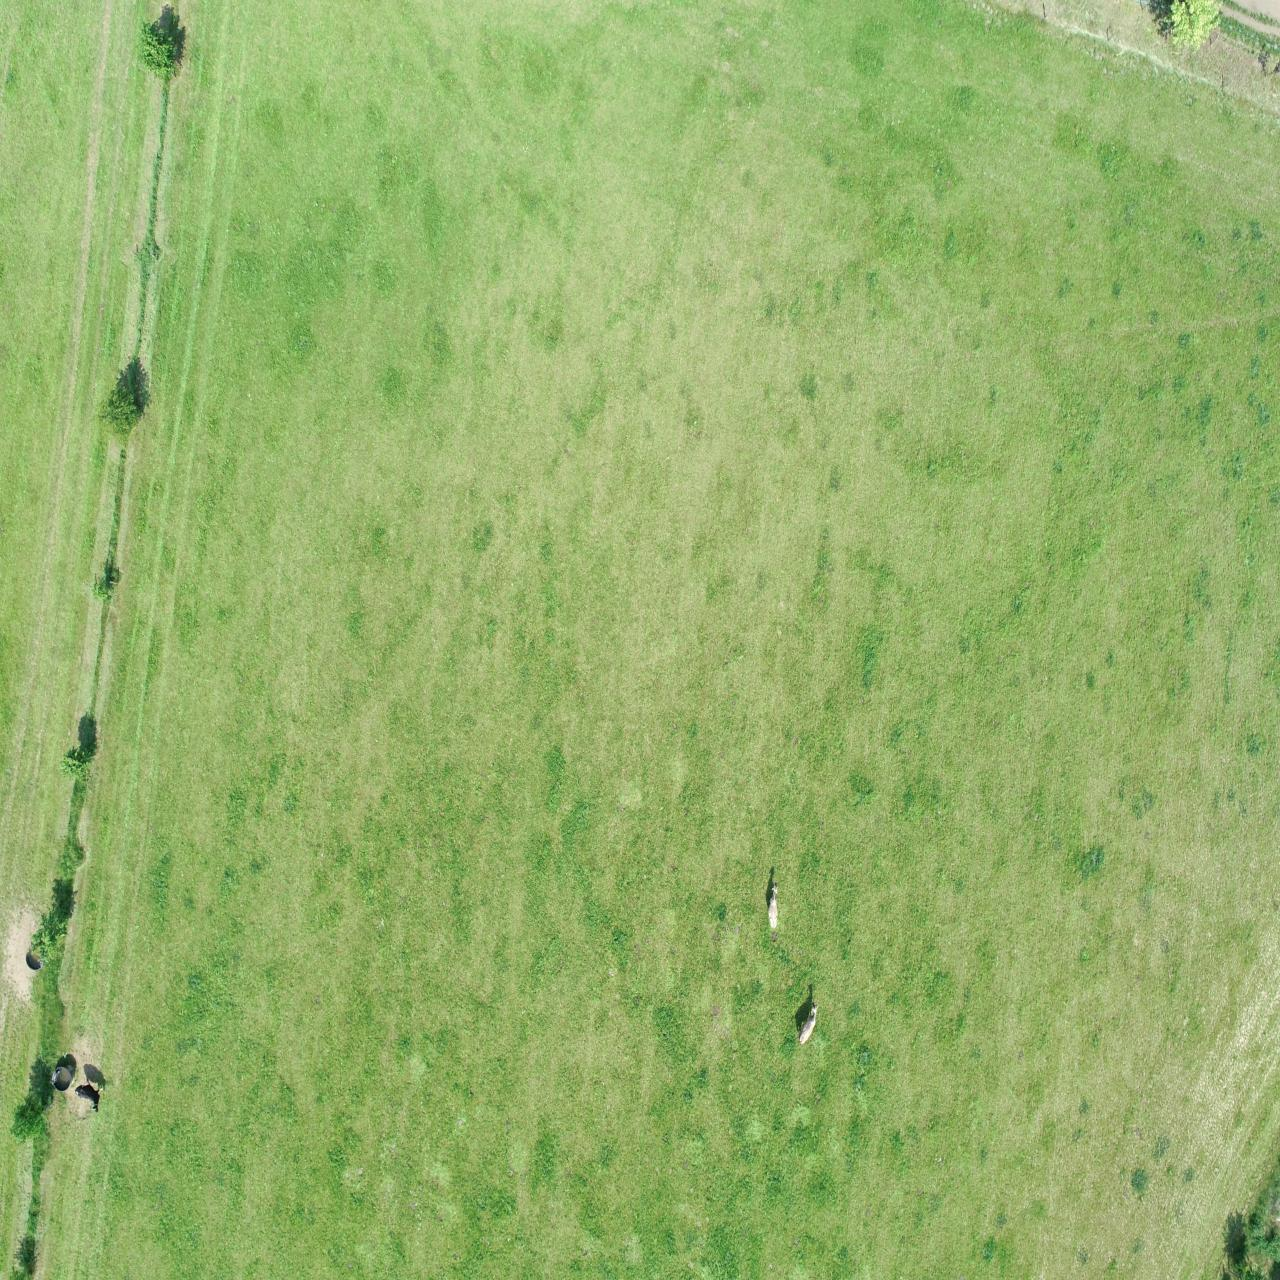cow: (792, 998, 821, 1049), (73, 1075, 105, 1116), (765, 877, 783, 930)
